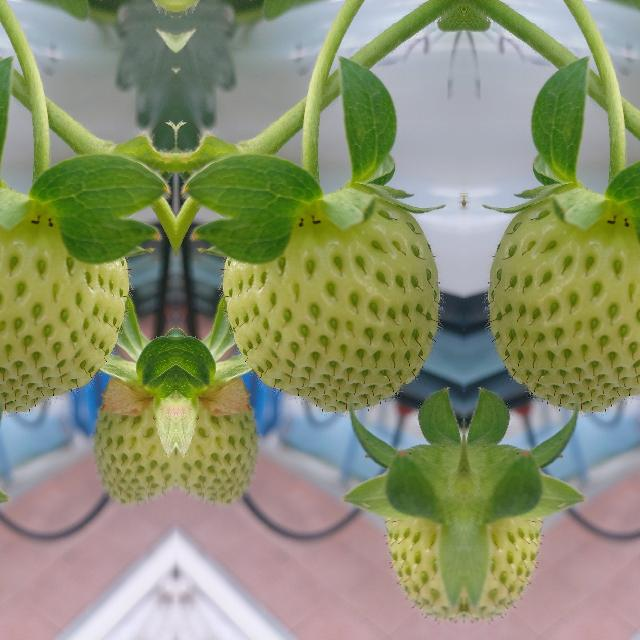Health_25: (220, 194, 438, 412), (488, 193, 640, 412), (0, 193, 129, 412), (175, 389, 257, 508), (93, 389, 175, 508)
